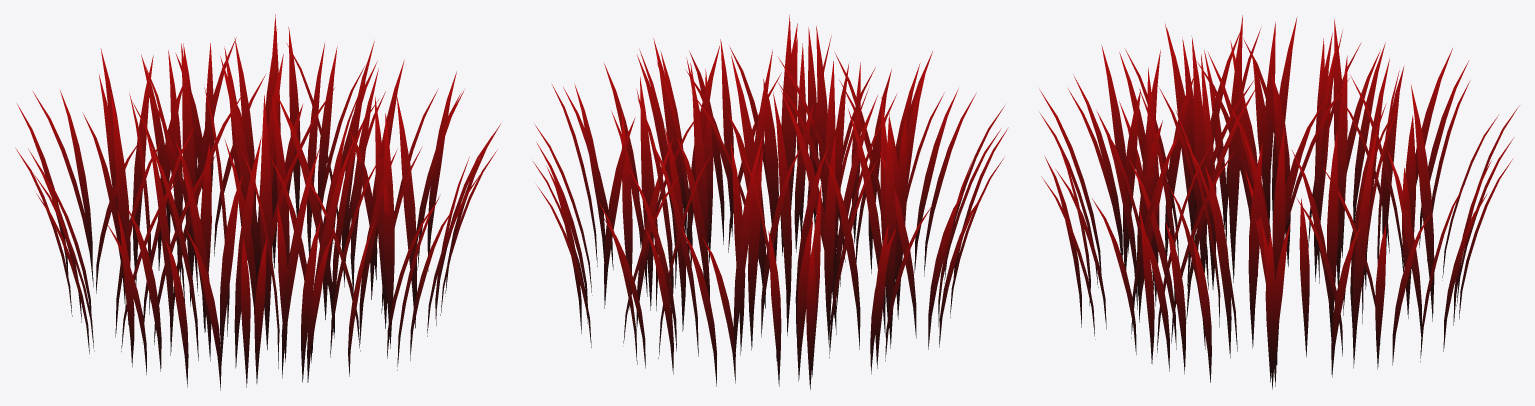
Rendered from Grass_1_LOD0.fbx.
3 renders of one model, left to right at view 1: azimuth 30°, elevation 25°; view 2: azimuth 150°, elevation 25°; view 3: azimuth 270°, elevation 25°, orthographic.
Visible parts, largest first — view 1: Grass.001; view 2: Grass.001; view 3: Grass.001.
Part boxes in pixels (left/top/right/bottom): Grass.001: left=15, top=14, right=500, bottom=390; Grass.001: left=533, top=15, right=1008, bottom=389; Grass.001: left=1039, top=15, right=1519, bottom=389.
Bounding box in the file's own units: 1.03 × 0.5862 × 0.9857.
